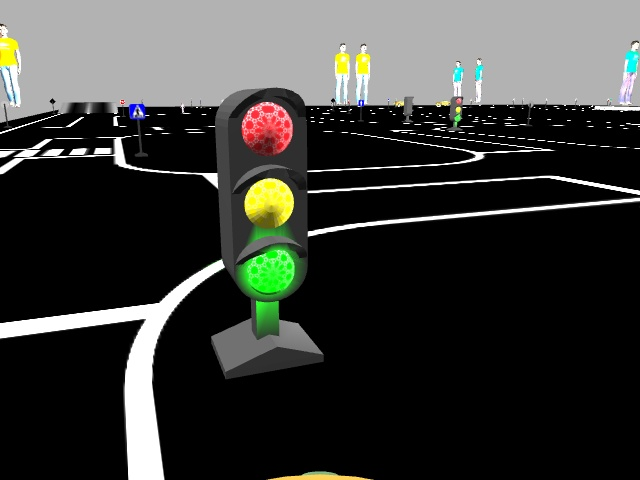Crosswalk: (129, 104, 144, 120)
TrafficLight: (216, 89, 309, 300)
